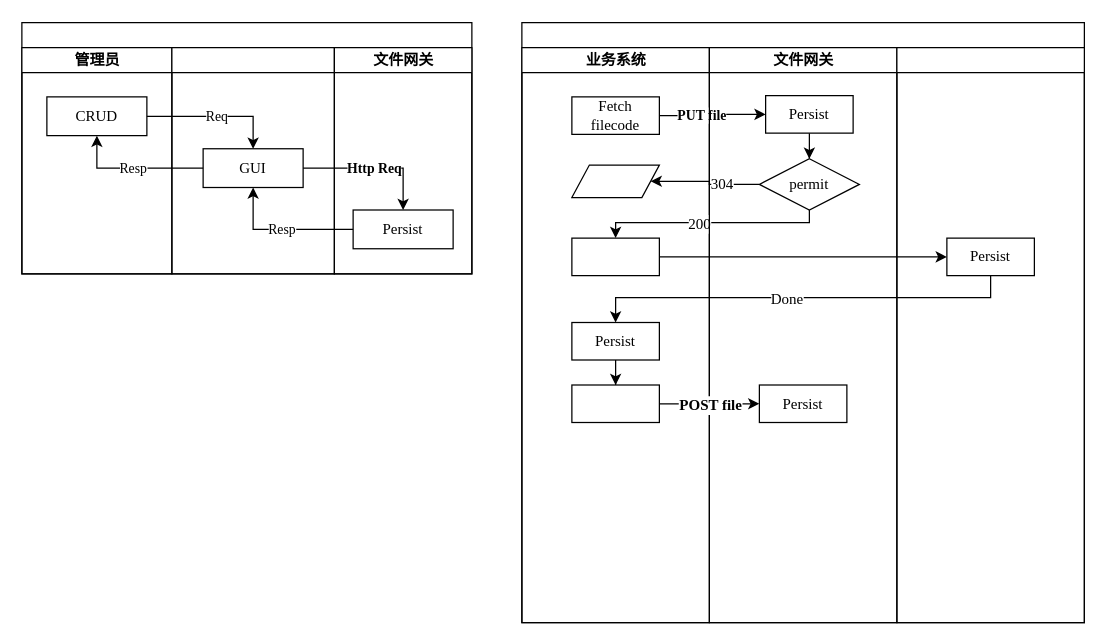
The diagram is 1106 pixels wide and 644 high, and some of its shapes have lost their labels. Each missing label, with the box of its shape:
End: (571, 164, 659, 198)
Report: (571, 384, 659, 422)
Upload: (571, 237, 659, 276)
上传: (521, 21, 1084, 622)
存储: (896, 46, 1084, 622)
授权: (21, 21, 472, 274)
文件网关UI: (171, 46, 334, 274)
